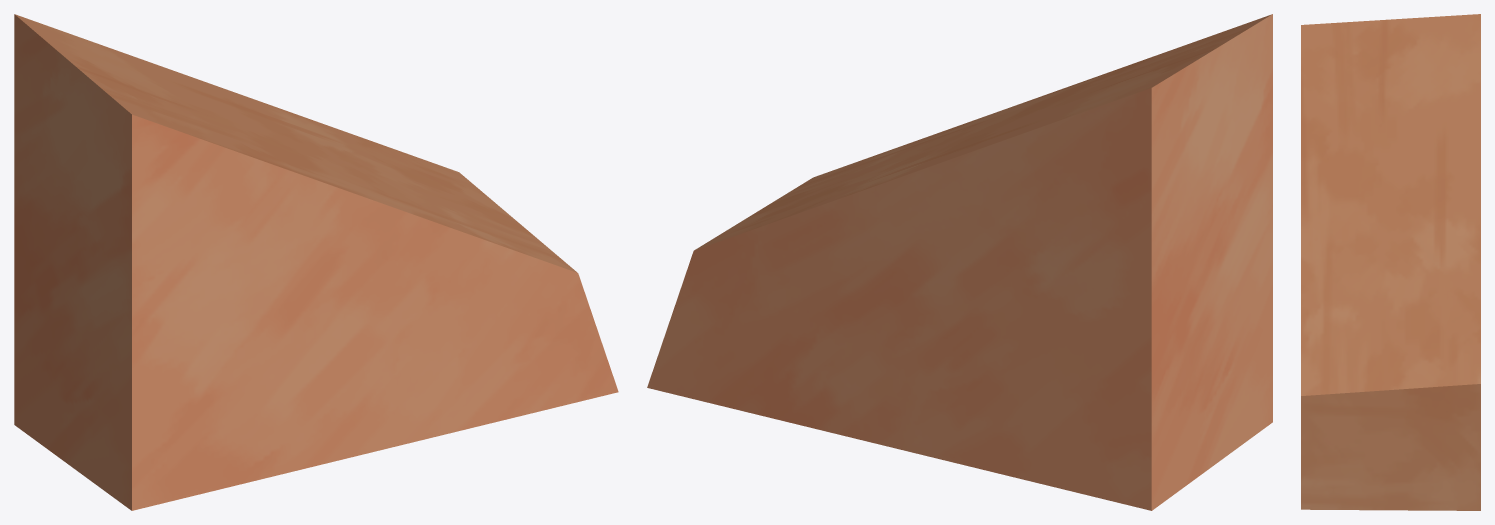
Rendered from parapet_crenel_s04.fbx.
The picture shows the model from 3 angles, left to right: view 1: azimuth 30°, elevation 25°; view 2: azimuth 150°, elevation 25°; view 3: azimuth 270°, elevation 25°; orthographic projection. The views are drawn at different scales.
Visible parts, largest first — view 1: parapet_crenel_s04; view 2: parapet_crenel_s04; view 3: parapet_crenel_s04.
Boxes of the visible parts, x1,y1,x2,y2 form: parapet_crenel_s04: [14, 14, 618, 510]; parapet_crenel_s04: [647, 14, 1272, 510]; parapet_crenel_s04: [1301, 14, 1480, 510].
Bounding box in the file's own units: 2.41 × 1.93 × 1.
